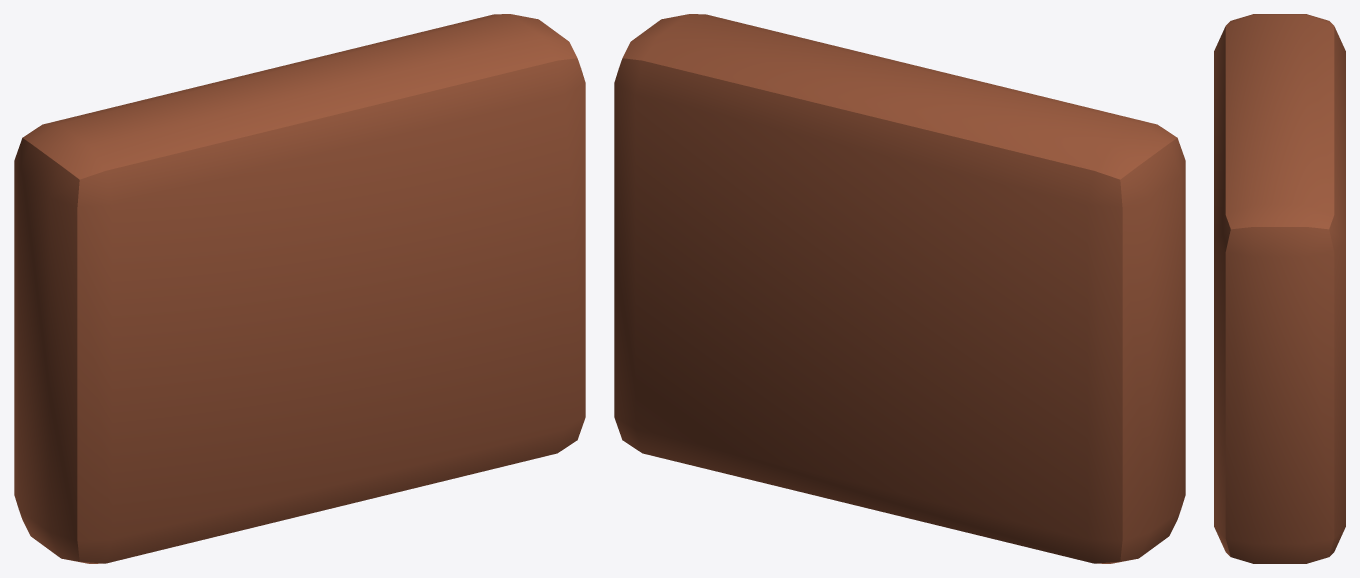
Rendered from warming_drawer_power_button.glb.
3 views of the same model, side by side, from view 1: azimuth 30°, elevation 25°; view 2: azimuth 150°, elevation 25°; view 3: azimuth 270°, elevation 25° (orthographic). The views are drawn at different scales.
Visible parts, largest first — view 1: warming_drawer_power_button_x; view 2: warming_drawer_power_button_x; view 3: warming_drawer_power_button_x.
Boxes of the visible parts, x1,y1,x2,y2 form: warming_drawer_power_button_x: (14,14,585,563); warming_drawer_power_button_x: (614,14,1185,563); warming_drawer_power_button_x: (1214,14,1345,563).
Bounding box in the file's own units: 0.016 × 0.012 × 0.004.
